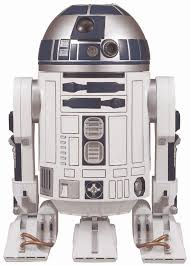r2d2: (9, 4, 186, 263)
